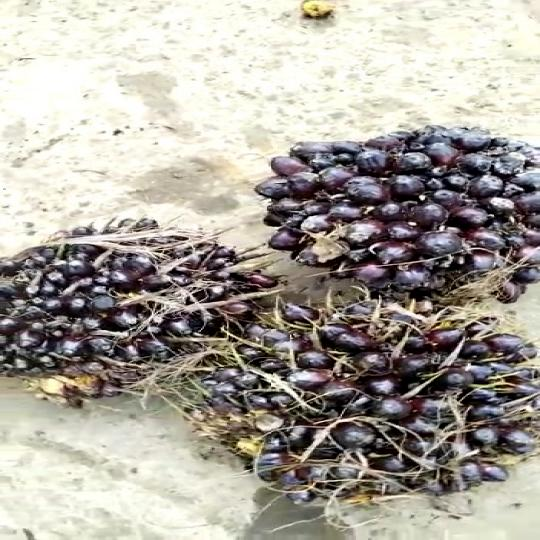mentah: (193, 304, 540, 498), (0, 206, 299, 411), (262, 127, 540, 304)
